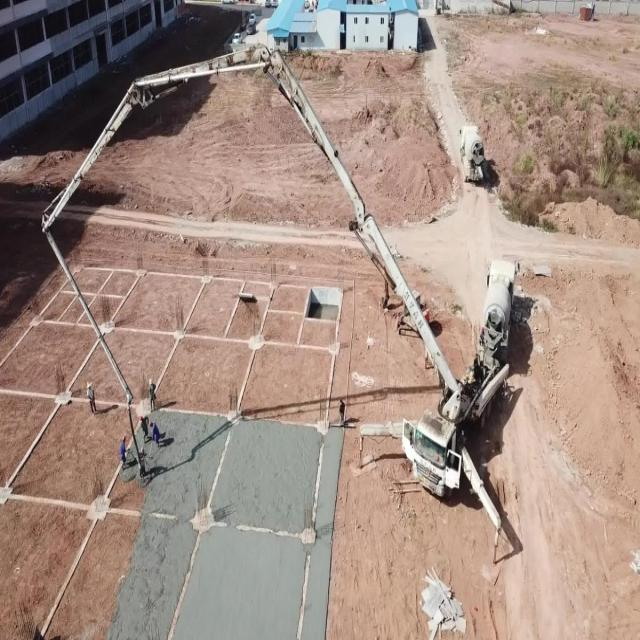truck: (36, 36, 517, 580)
